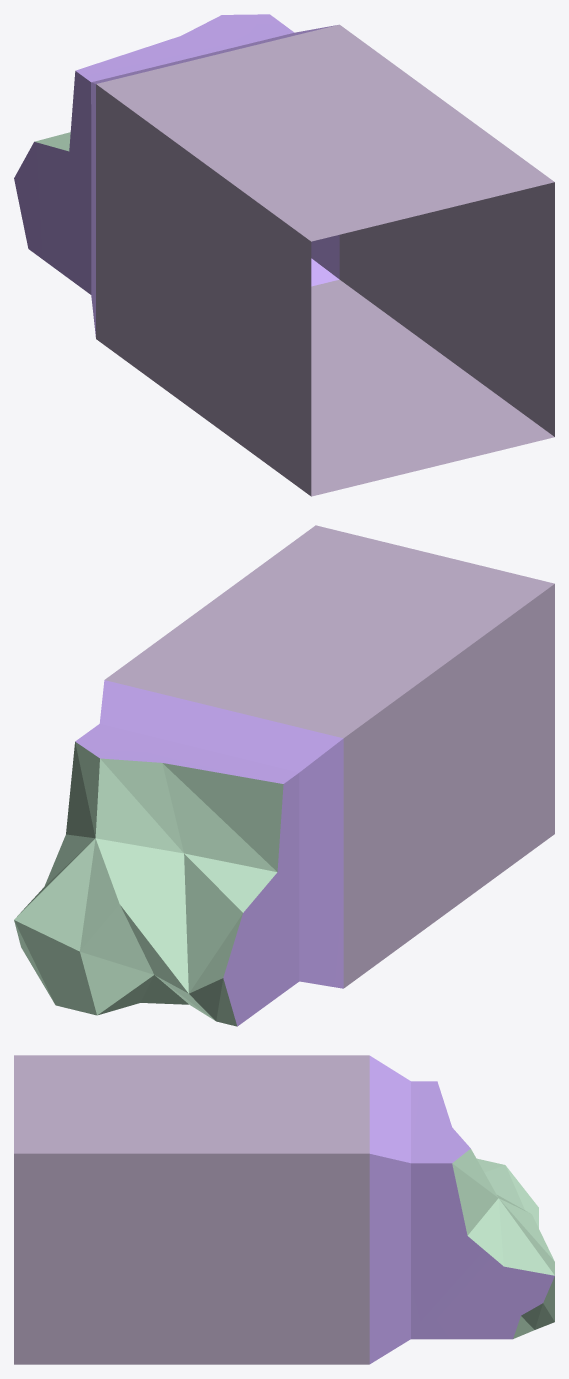
3 views of the same model, one above another, from view 1: azimuth 30°, elevation 25°; view 2: azimuth 150°, elevation 25°; view 3: azimuth 270°, elevation 25° (orthographic). The views are drawn at different scales.
Visible parts, largest first — view 1: Object18; view 2: Object18; view 3: Object18.
Boxes of the visible parts, x1,y1,x2,y2 form: Object18: (14, 14, 554, 496); Object18: (14, 525, 554, 1026); Object18: (14, 1055, 554, 1364).
Size of the model in its own units: 8742 by 8742 by 20340.
